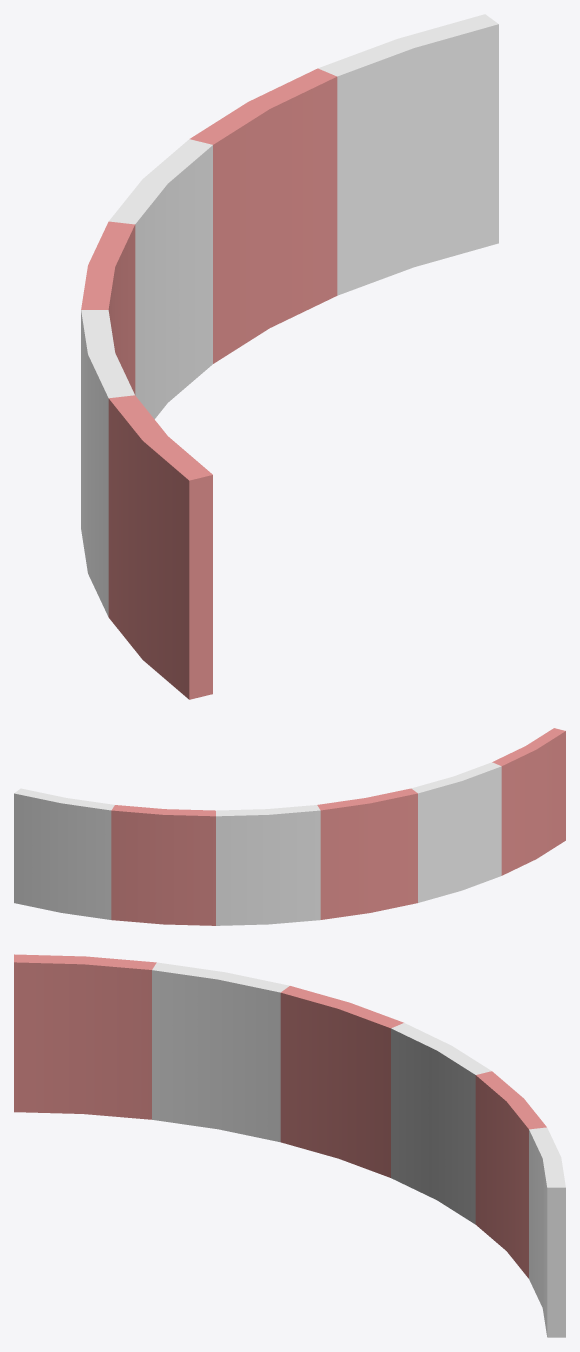
Rendered from roadCornerLargerWallInner.glb.
The picture shows the model from 3 angles, top to bottom: view 1: azimuth 30°, elevation 25°; view 2: azimuth 150°, elevation 25°; view 3: azimuth 270°, elevation 25°; orthographic projection. The views are drawn at different scales.
Visible parts, largest first — view 1: roadCornerLargerWallInner(Clone); view 2: roadCornerLargerWallInner(Clone); view 3: roadCornerLargerWallInner(Clone).
Part boxes in pixels (x1=…): roadCornerLargerWallInner(Clone): x1=81, y1=14, x2=498, y2=699; roadCornerLargerWallInner(Clone): x1=14, y1=728, x2=565, y2=925; roadCornerLargerWallInner(Clone): x1=14, y1=954, x2=565, y2=1337.
Size of the model in its own units: 1.47 by 0.44 by 1.47.
